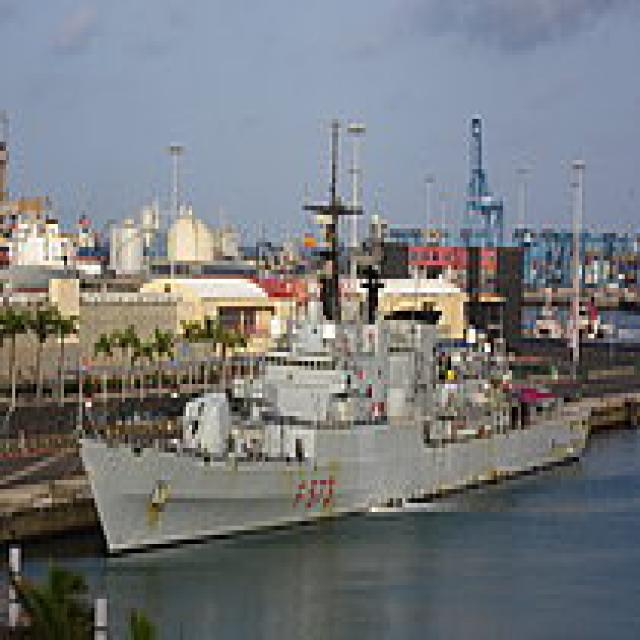Warship: (73, 110, 594, 558)
